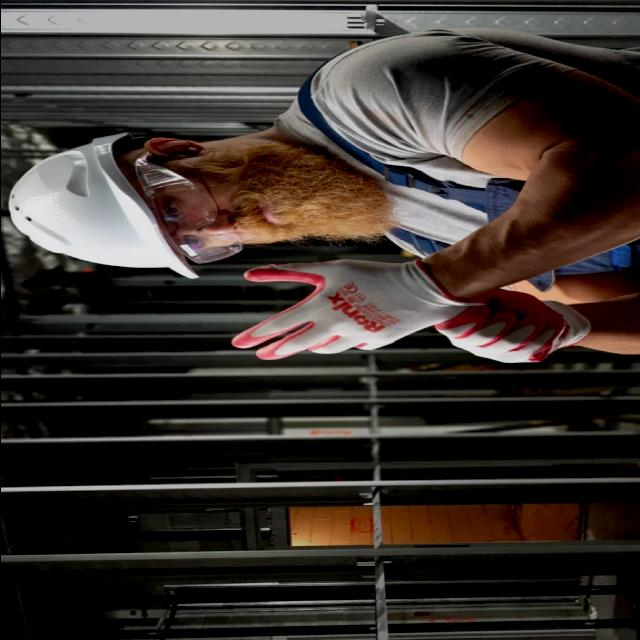Gloves: (214, 258, 472, 360), (419, 284, 593, 366)
Hard Hat: (1, 126, 198, 282)
Safety Glasses: (130, 139, 204, 275)
